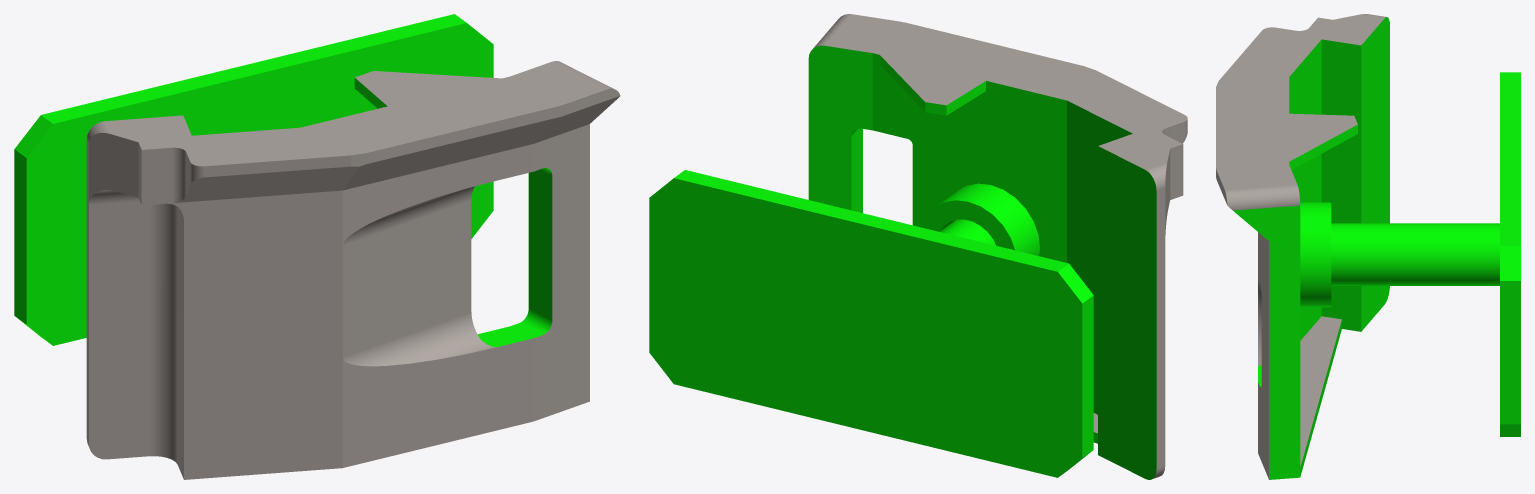
The model's file is source.obj.
3 renders of one model, left to right at view 1: azimuth 30°, elevation 25°; view 2: azimuth 150°, elevation 25°; view 3: azimuth 270°, elevation 25°, orthographic. The views are drawn at different scales.
Visible parts, largest first — view 1: sample_step; view 2: sample_step; view 3: sample_step.
Part boxes in pixels (<box>): sample_step: <box>14,14,620,479</box>; sample_step: <box>649,14,1187,479</box>; sample_step: <box>1216,14,1520,479</box>.
Size of the model in its own units: 0.2235 by 0.15 by 0.1448.
